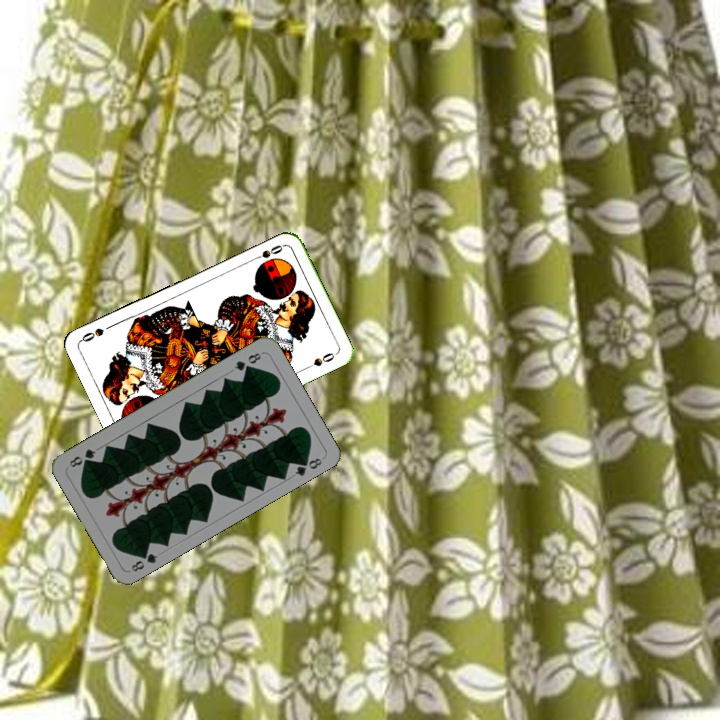G8: (127, 546, 161, 574), (230, 349, 264, 374)
SO: (248, 241, 286, 264)
